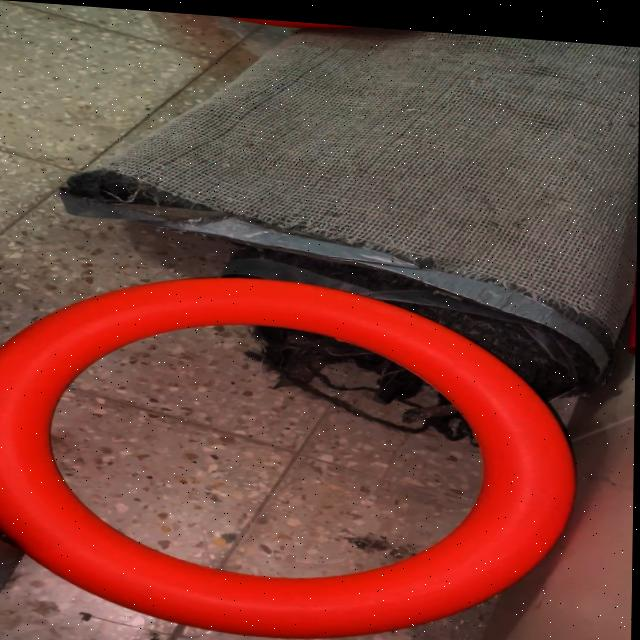note: (0, 257, 583, 640)
